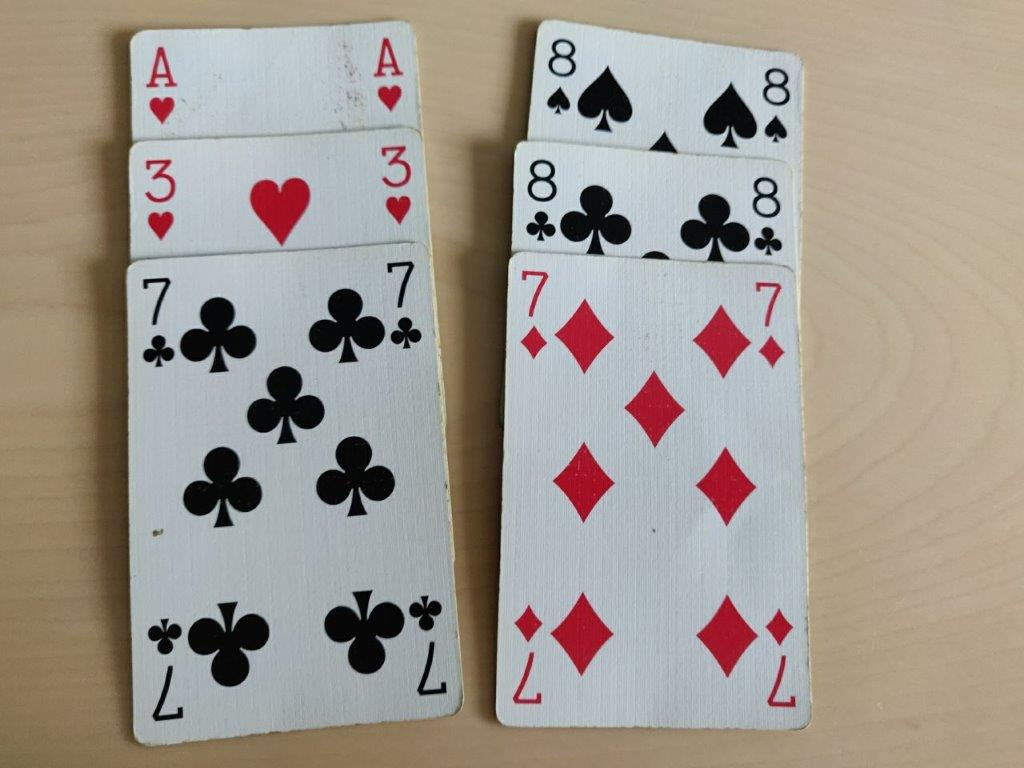3H: (139, 156, 180, 245), (376, 141, 417, 230)
7C: (134, 273, 177, 376), (381, 258, 424, 361)
7D: (511, 263, 554, 364), (749, 275, 792, 376)
8C: (517, 153, 564, 248), (747, 168, 789, 261)
8S: (539, 29, 581, 126), (756, 55, 798, 152)
AH: (141, 37, 185, 130), (366, 33, 408, 118)
